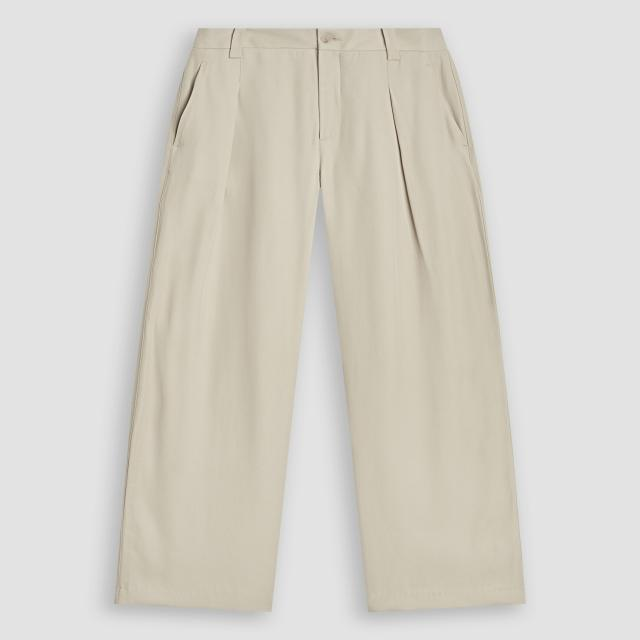long-pants: (113, 28, 529, 618)
